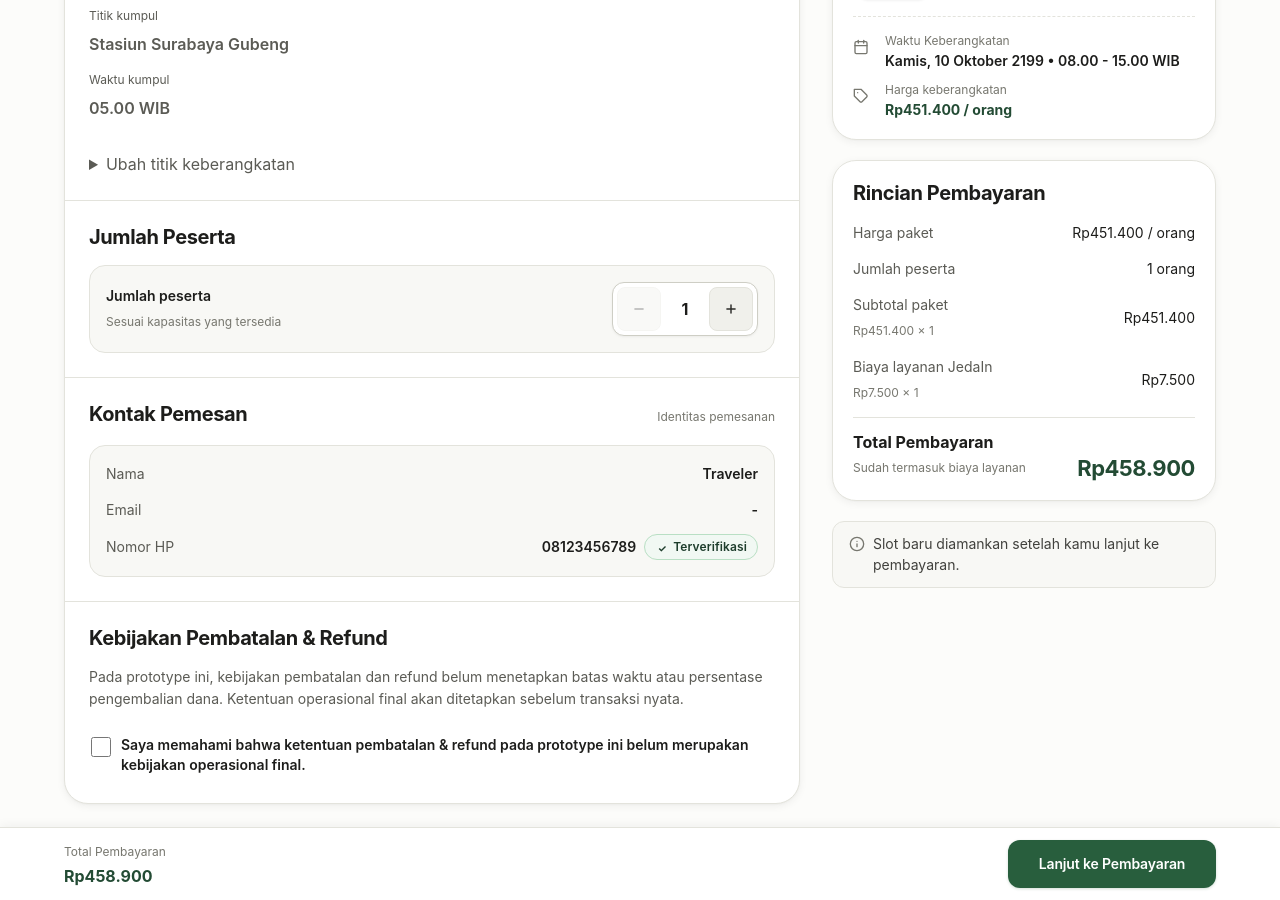
Departure options and per-person Traveler pricing › preserves the selected departure when checkout recovers from an unavailable session
(page scrolled)
Step 1. Click the checkbox with id "cancellation-policy-ack" → (101, 747), box [91,737,111,757]
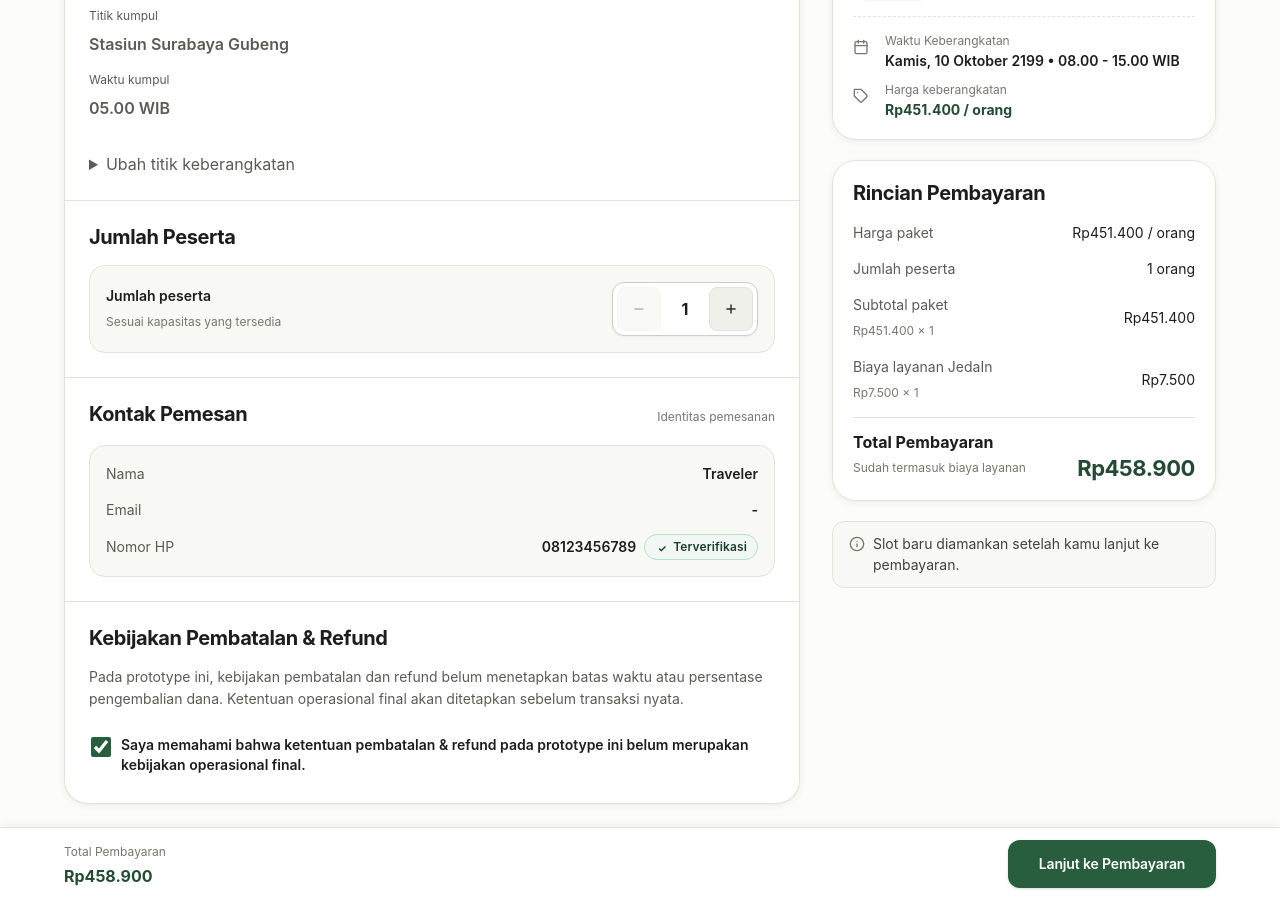
Step 2. Click the button "Lanjut ke Pembayaran" → (1112, 864), box [1008,840,1216,888]
(page scrolled)
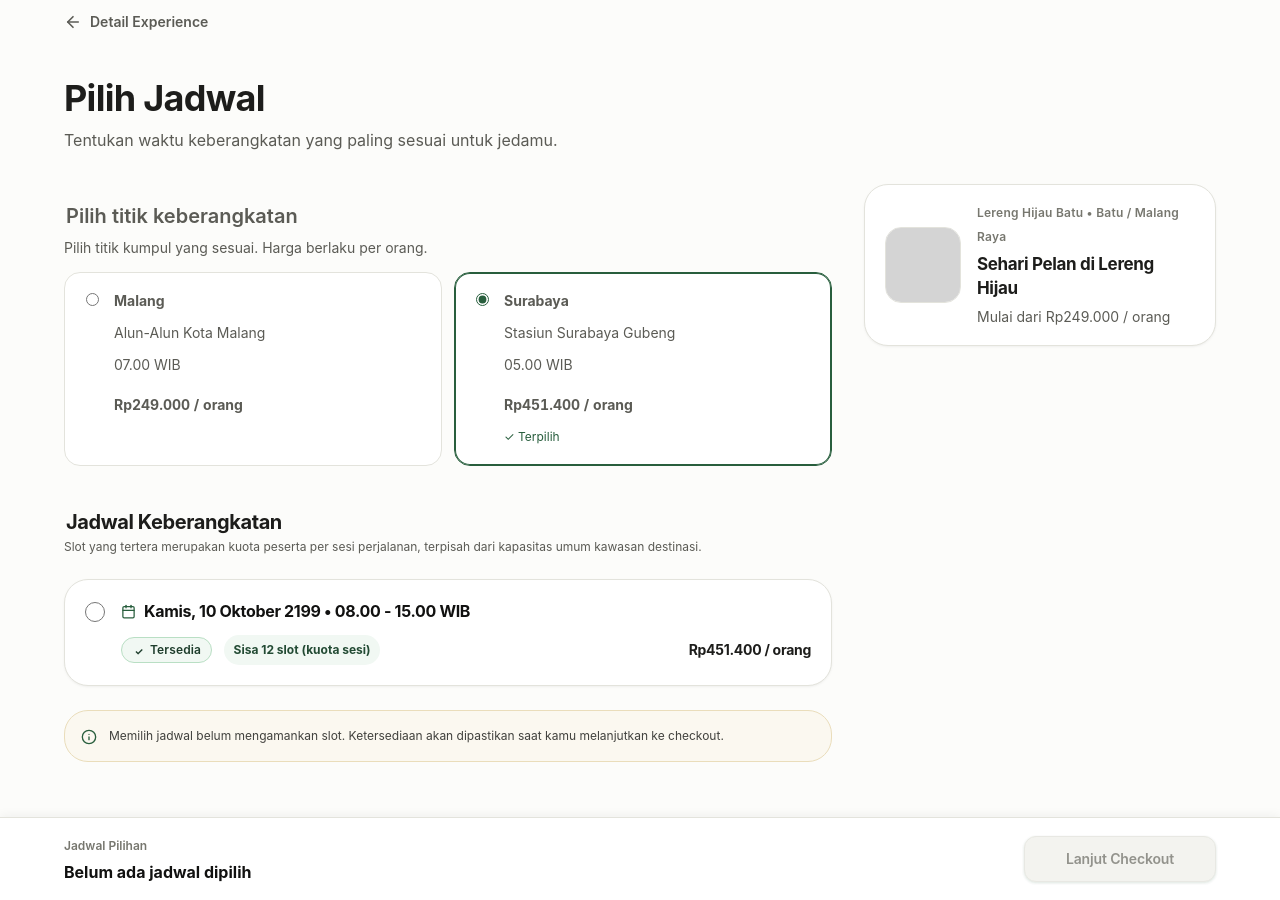
Result: the 2nd radio button is checked at [476,293,489,306]
